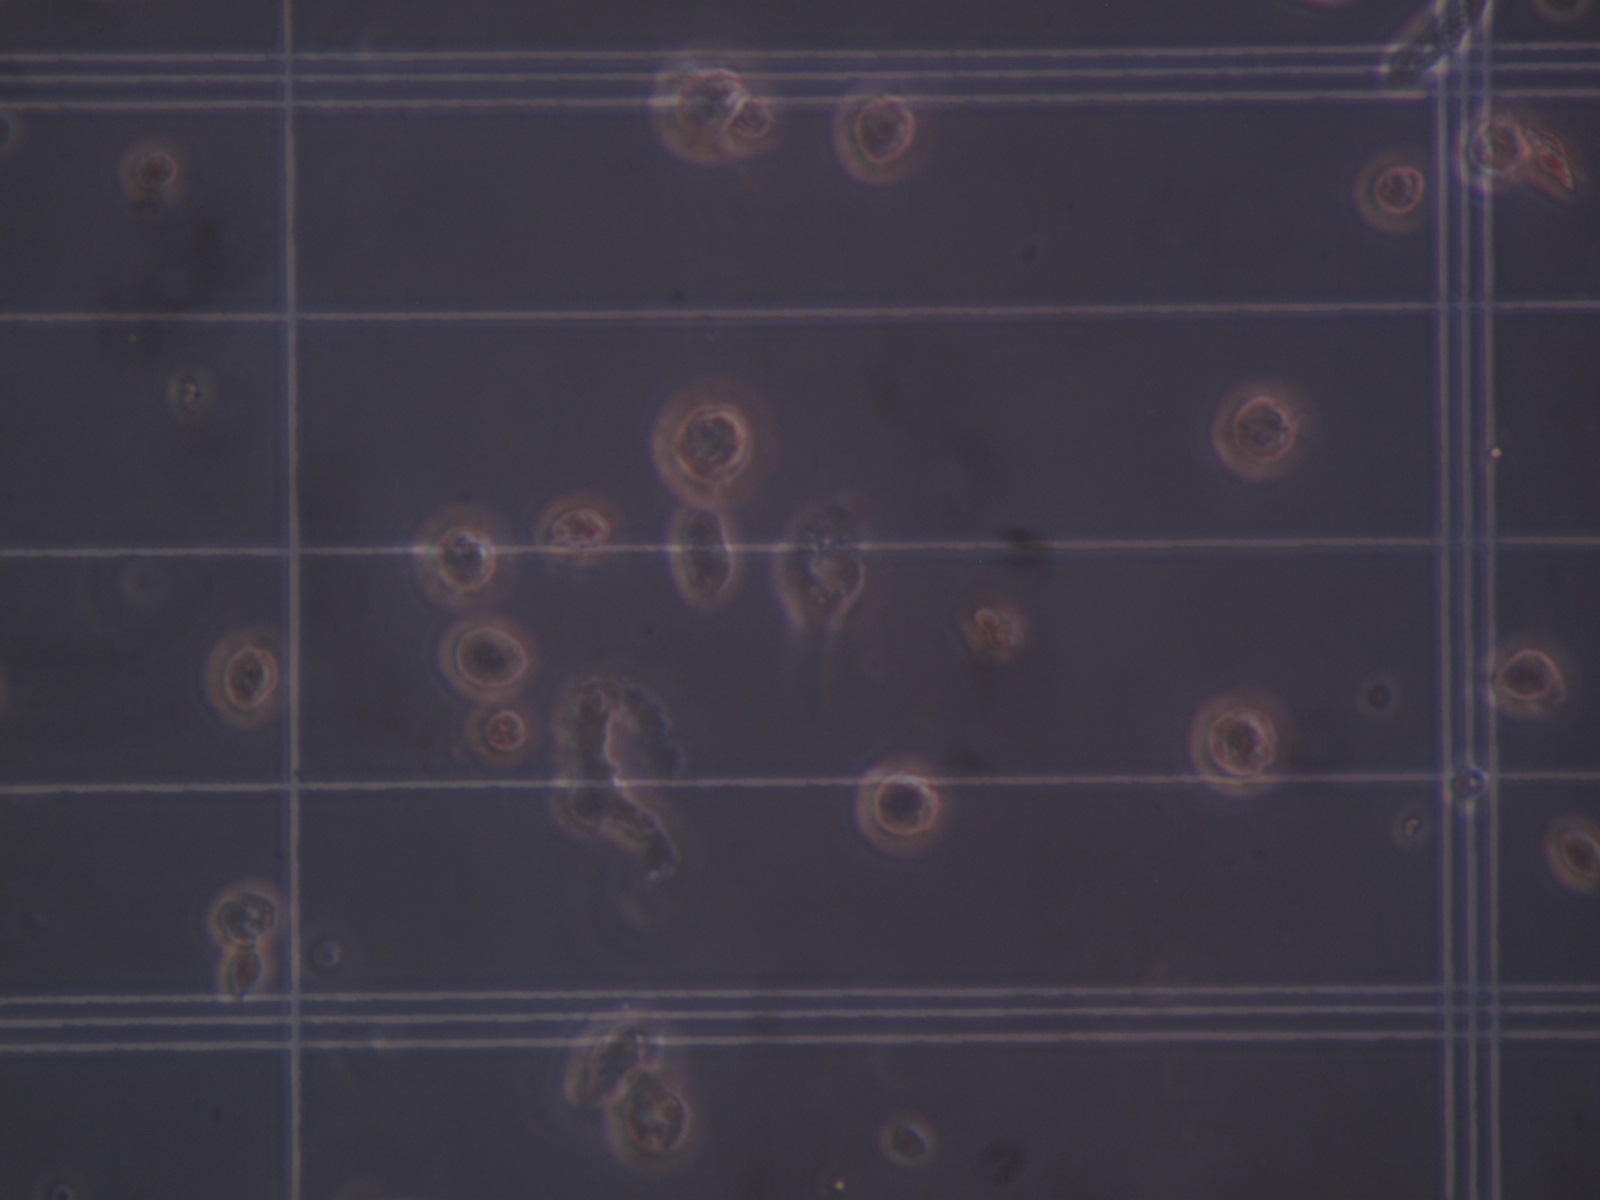hemo: (651, 374, 756, 504), (1184, 684, 1298, 795), (412, 499, 517, 613), (651, 42, 746, 161), (831, 78, 927, 183), (1212, 378, 1308, 482), (854, 756, 956, 850), (663, 502, 746, 611), (440, 613, 540, 698), (603, 1080, 695, 1168), (1475, 634, 1565, 715), (203, 629, 280, 722), (1348, 147, 1429, 231), (537, 492, 616, 568), (1455, 108, 1526, 193), (465, 692, 538, 768), (207, 880, 286, 947), (1546, 813, 1600, 891), (121, 137, 188, 199), (721, 97, 781, 158), (878, 1116, 936, 1167), (217, 947, 267, 1001), (1440, 759, 1490, 811)
